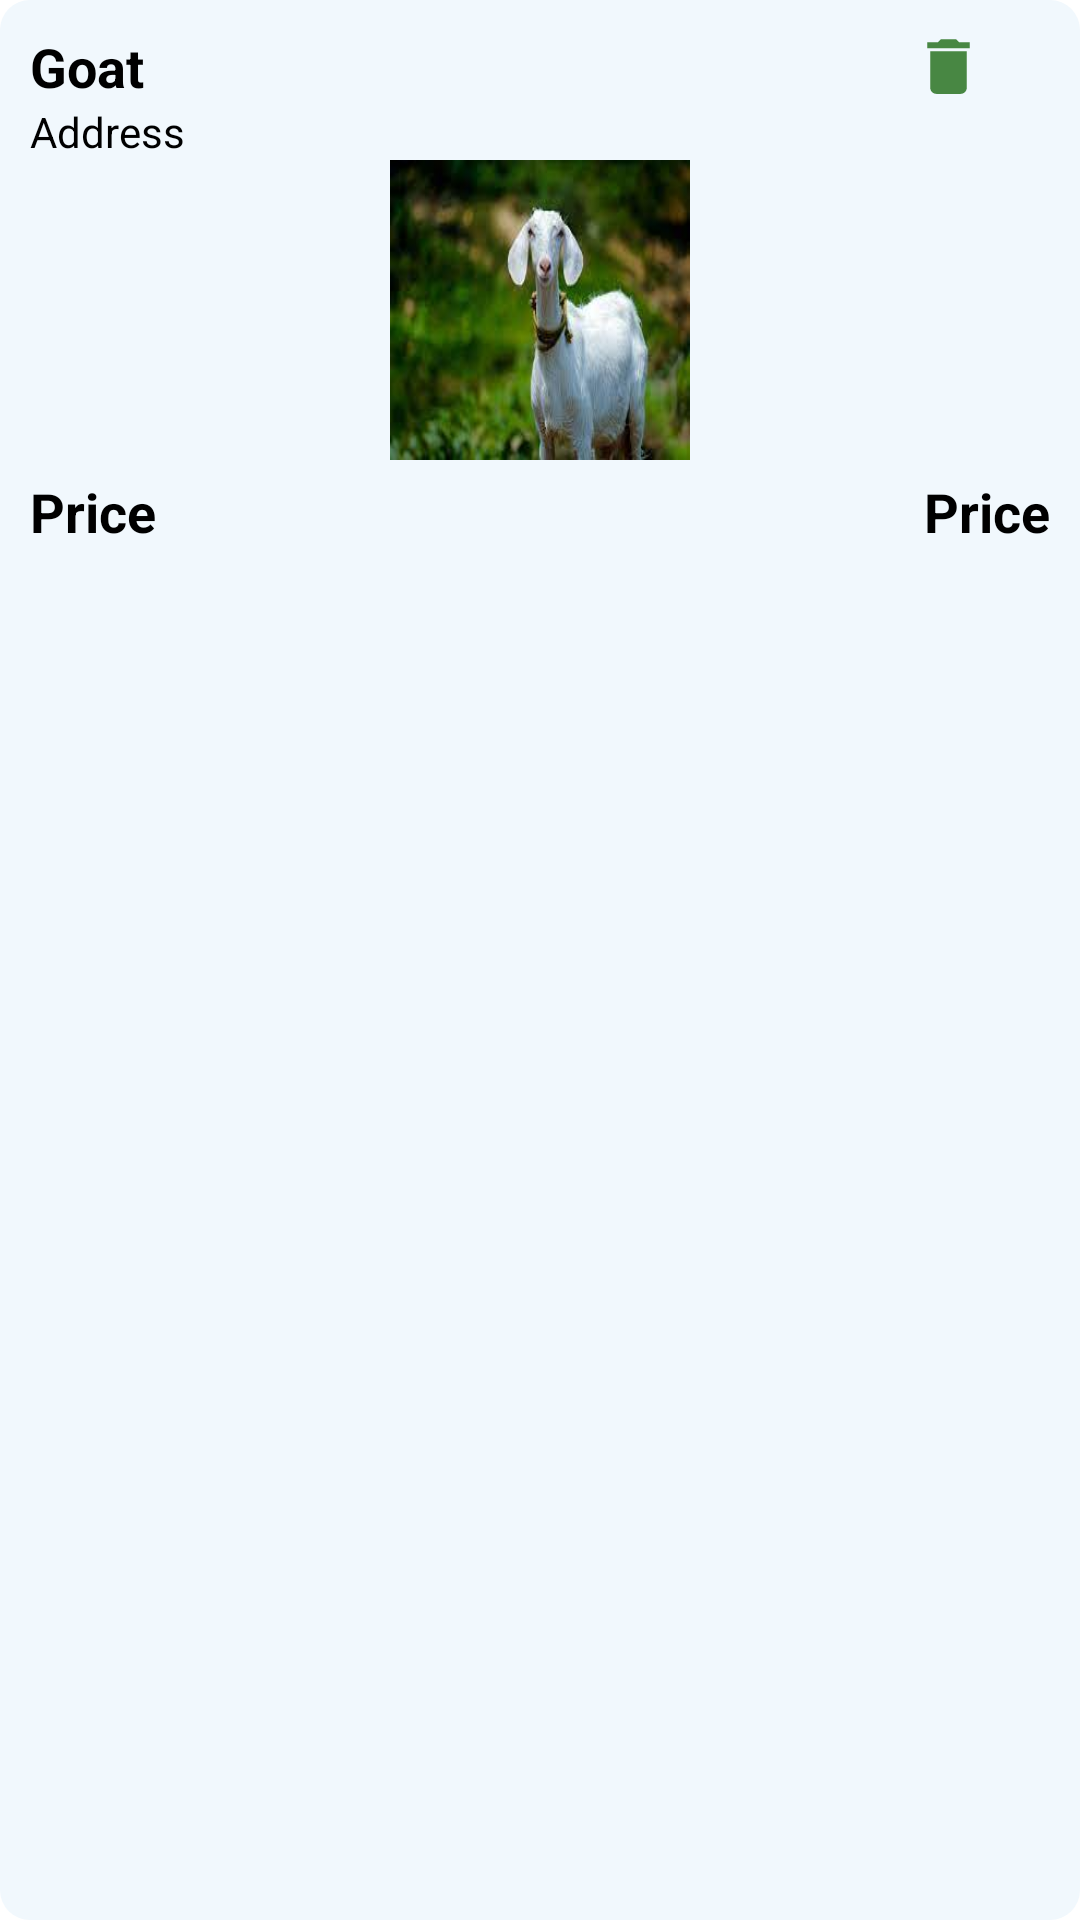

Named icons in this screenshot (1080w x 1920h) and their bounding boxes, BBox(x1, y1, x2, y2):
delete: BBox(927, 39, 970, 94)
